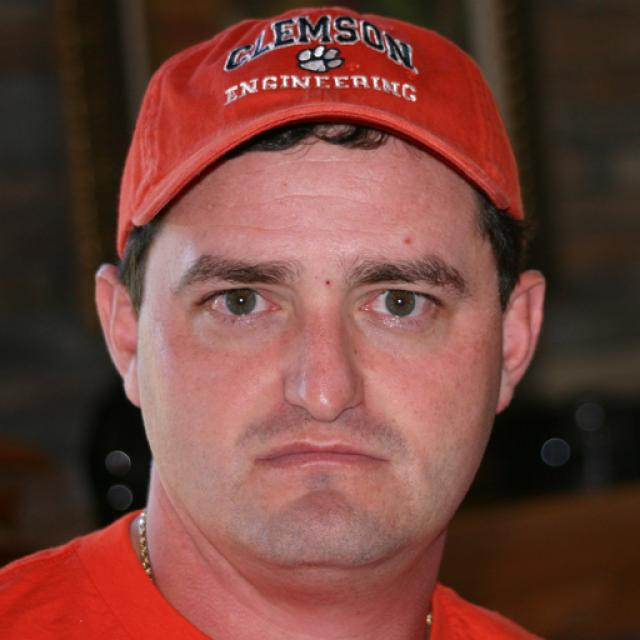Acne: (395, 230, 419, 248), (319, 271, 337, 291)
